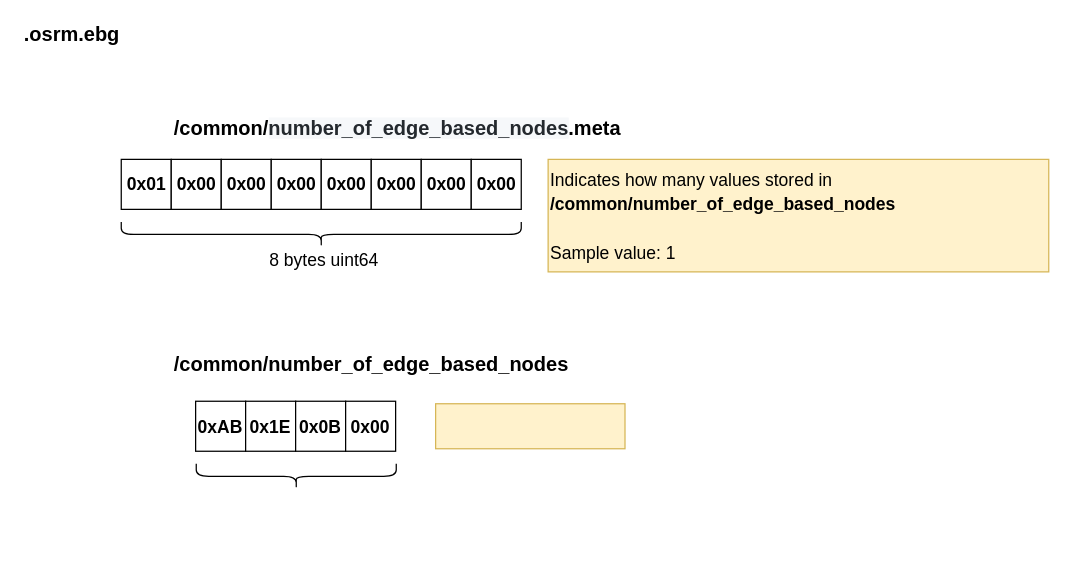
This 1070x570 diagram has some shape labels left out. The shapes that lost their labels are listed below. From the top down, each one's centre as x and y in pixels, then its label:
At pixel 529 425: "Sample value: 728747".
At pixel 295 475: "4 bytes uint32 number_of_edge_based_nodes".
